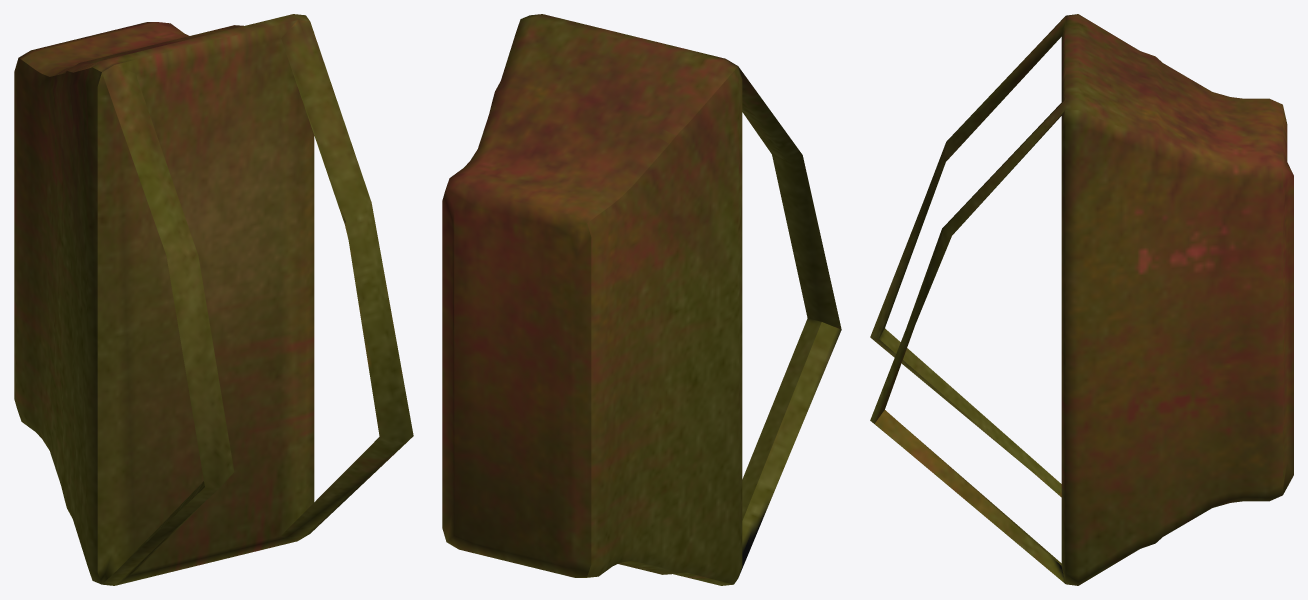
The model's file is sac militaire.fbx.
The picture shows the model from 3 angles, left to right: view 1: azimuth 30°, elevation 25°; view 2: azimuth 150°, elevation 25°; view 3: azimuth 270°, elevation 25°; orthographic projection. The views are drawn at different scales.
Visible parts, largest first — view 1: sac militaire; view 2: sac militaire; view 3: sac militaire.
Boxes of the visible parts, box(x1,y1,x2,y2) form: sac militaire: box(14, 14, 413, 585); sac militaire: box(442, 14, 841, 585); sac militaire: box(870, 14, 1293, 585).
Bounding box in the file's own units: 19.62 × 44.14 × 35.05.
